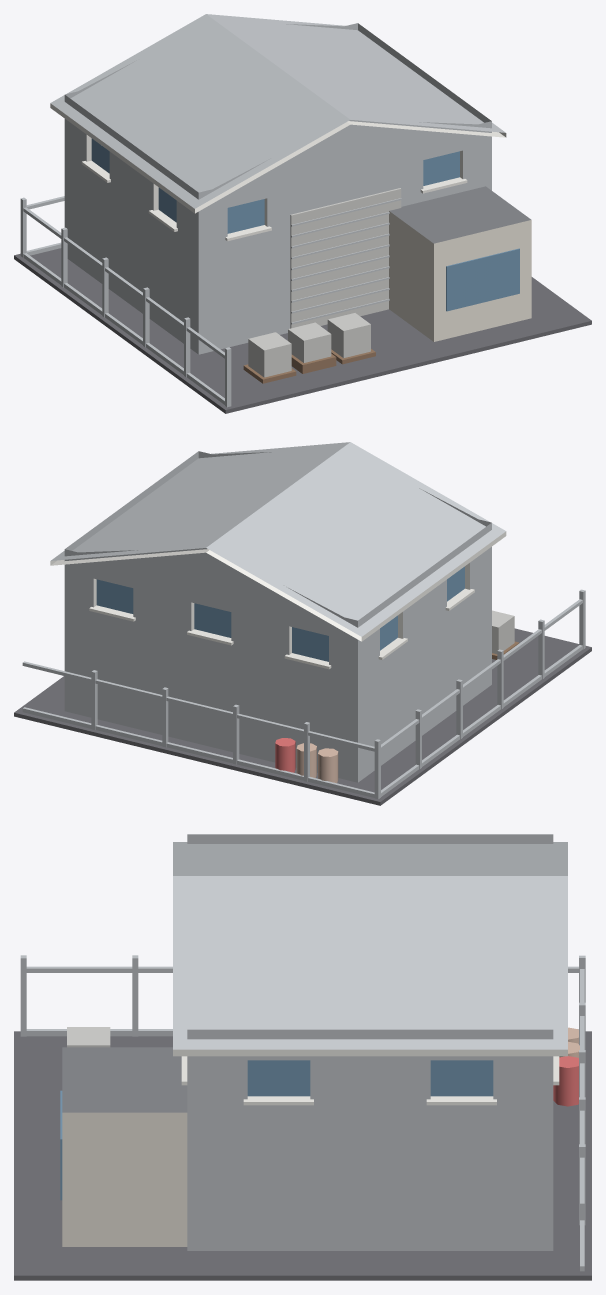
3 renders of one model, top to bottom at view 1: azimuth 30°, elevation 25°; view 2: azimuth 150°, elevation 25°; view 3: azimuth 270°, elevation 25°, orthographic. The views are drawn at different scales.
Visible parts, largest first — view 1: i_1_1_b; view 2: i_1_1_b; view 3: i_1_1_b.
Part boxes in pixels (box(x1,y1,x2,y2)): i_1_1_b: box(14, 14, 591, 413); i_1_1_b: box(14, 442, 591, 805); i_1_1_b: box(14, 834, 591, 1280).
Bounding box in the file's own units: 12 × 6.47 × 12.
